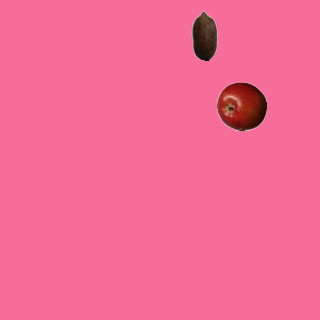Apple Braeburn: (216, 81, 266, 131)
Nut Pecan: (179, 10, 229, 60)
